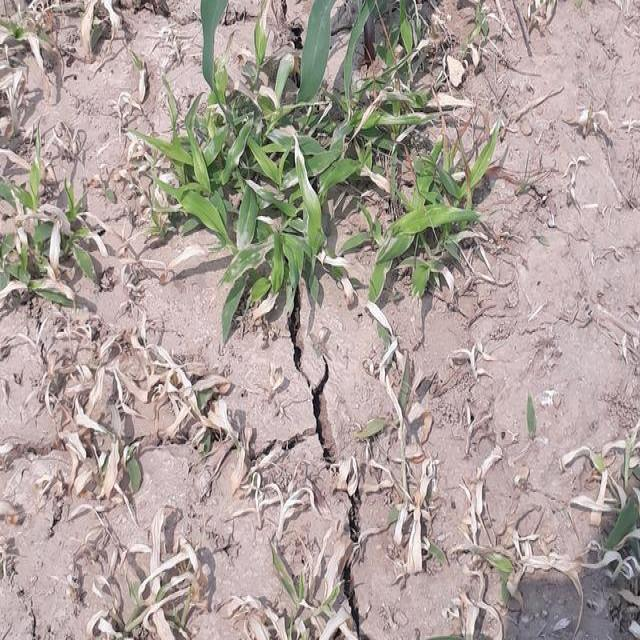weed: (173, 76, 498, 295)
